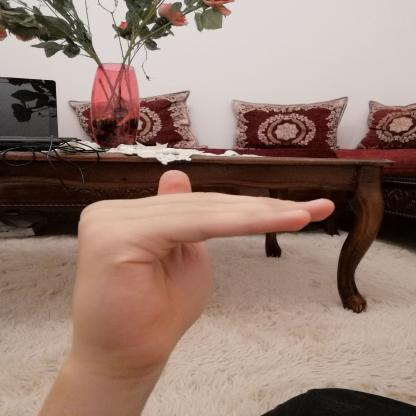KHAA: (46, 155, 355, 372)
